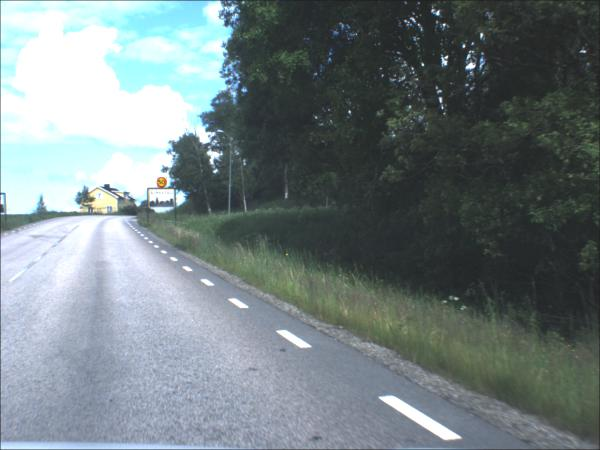50_SIGN: (158, 178, 169, 189)
